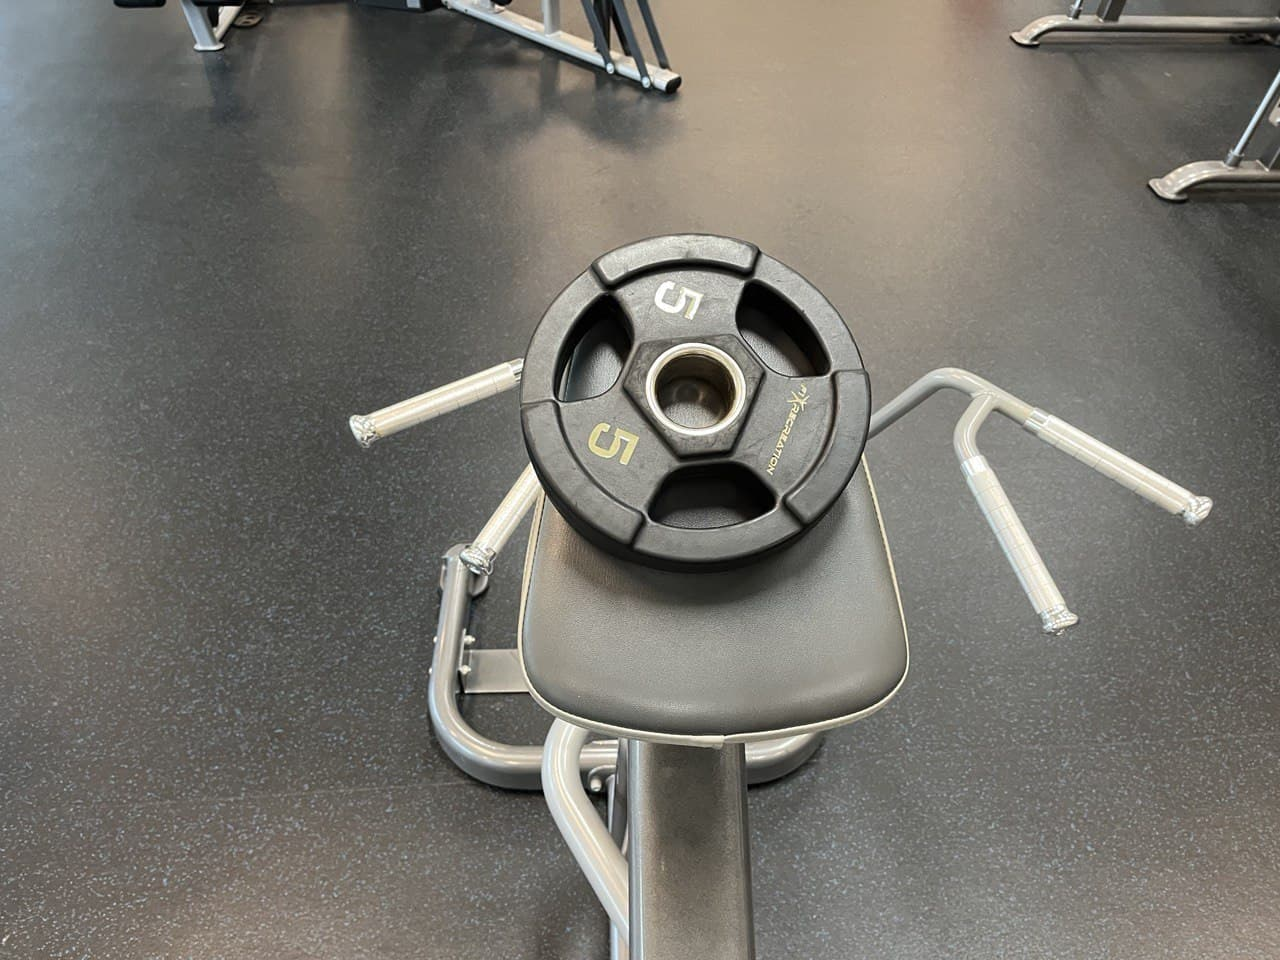weights: (517, 229, 882, 570)
